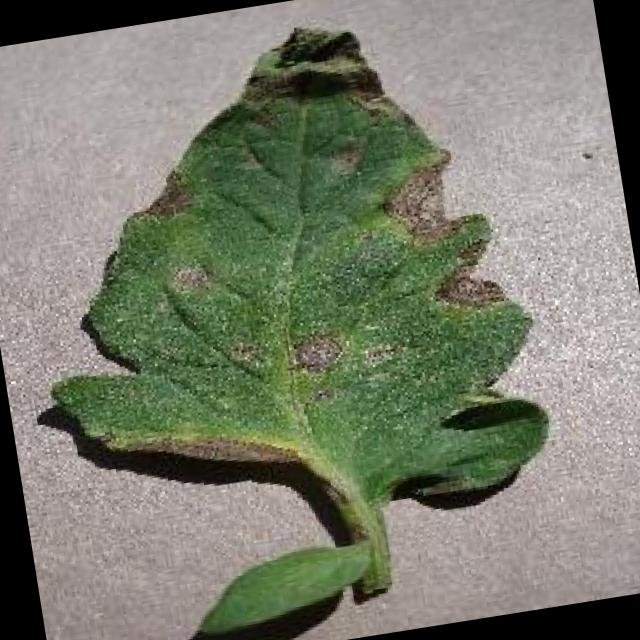Tomato_Early_Blight: (8, 0, 553, 577)
